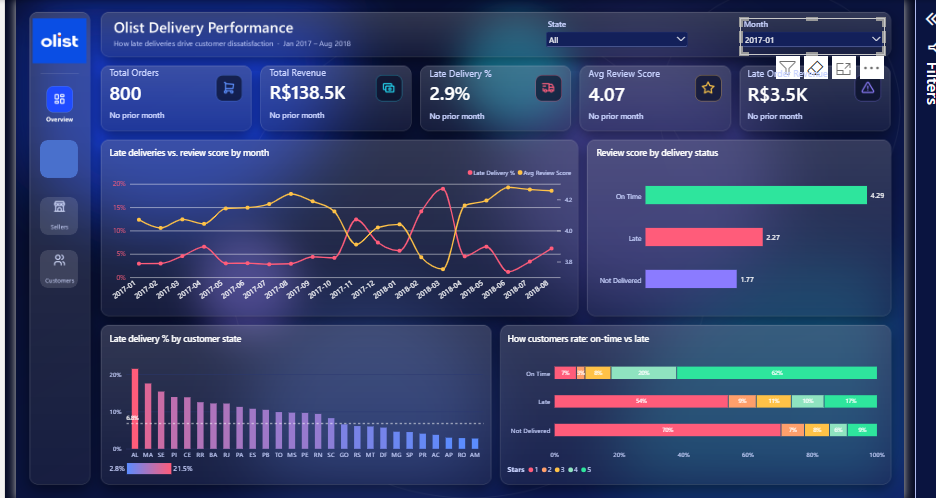

What the dashboard file says about the page in this screenshot:
{"tool":"powerbi","page":{"name":"Overview","canvas":[1920,1080],"ordinal":1},"visuals":[{"type":"cardVisual","fields":{"Data":["_Measures.Total Orders"]},"box":[186.5,147.3,233.7,153.2],"z":0},{"type":"slicer","fields":{"Values":["Calendar.Year-Month"]},"box":[1563.1,39.3,313.8,80.5],"z":1000},{"type":"slicer","fields":{"Values":["Customers.customer_state"]},"box":[1140.5,38.9,315.4,79.9],"z":2000},{"type":"cardVisual","fields":{"Data":["_Measures.Late Order Revenue"]},"box":[1563.8,149,248.4,153.4],"z":3000},{"type":"cardVisual","fields":{"Data":["_Measures.Avg Review Score"]},"box":[1220.4,149,216,153.4],"z":4000},{"type":"cardVisual","fields":{"Data":["_Measures.Late Delivery %"]},"box":[877,149,218.2,153.4],"z":5000},{"type":"cardVisual","fields":{"Data":["_Measures.Total Revenue"]},"box":[532.1,147.3,243.5,153.2],"z":6000},{"type":"lineChart","title":"Late deliveries vs. review score by month","fields":{"Category":["Calendar.Year-Month"],"Y":["_Measures.Late Delivery %"],"Y2":["_Measures.Avg Review Score"]},"box":[186.5,302.4,1034.8,379],"z":7000},{"type":"clusteredBarChart","title":"Review score by delivery status","fields":{"Category":["Orders.Delivery Status"],"Y":["_Measures.Avg Review Score"]},"box":[1237.7,302.4,654.5,378],"z":8000},{"type":"clusteredColumnChart","title":"Late delivery % by customer state","fields":{"Category":["Customers.customer_state"],"Y":["_Measures.Late Delivery %"]},"box":[185.8,704.2,840.2,341.3],"z":9000},{"type":"hundredPercentStackedBarChart","title":"How customers rate: on-time vs late","fields":{"Category":["Orders.Delivery Status"],"Series":["Reviews.review_score"],"Y":["_Measures.Review Count"]},"box":[1044.4,704.7,848.2,341.8],"z":10000},{"type":"actionButton","box":[51.8,540,82.1,82.1],"z":11000},{"type":"actionButton","box":[51.8,425.5,82.1,82.1],"z":12000},{"type":"actionButton","box":[51.8,302.4,82.1,82.1],"z":13000},{"type":"actionButton","box":[51.8,648,82.1,86.4],"z":13001}]}

Visuals, with their boxes on the page's 1920x1080 design canvas (x1, y1, x2, y2). These are canvas units, not pixel positions in the 936x498 screenshot, which may show the page scaled, cropped or inside an application window:
cardVisual - _Measures.Total Orders: <bbox>186, 147, 420, 300</bbox>
slicer - Calendar.Year-Month: <bbox>1563, 39, 1877, 120</bbox>
slicer - Customers.customer_state: <bbox>1140, 39, 1456, 119</bbox>
cardVisual - _Measures.Late Order Revenue: <bbox>1564, 149, 1812, 302</bbox>
cardVisual - _Measures.Avg Review Score: <bbox>1220, 149, 1436, 302</bbox>
cardVisual - _Measures.Late Delivery %: <bbox>877, 149, 1095, 302</bbox>
cardVisual - _Measures.Total Revenue: <bbox>532, 147, 776, 300</bbox>
"Late deliveries vs. review score by month" lineChart: <bbox>186, 302, 1221, 681</bbox>
"Review score by delivery status" clusteredBarChart: <bbox>1238, 302, 1892, 680</bbox>
"Late delivery % by customer state" clusteredColumnChart: <bbox>186, 704, 1026, 1046</bbox>
"How customers rate: on-time vs late" hundredPercentStackedBarChart: <bbox>1044, 705, 1893, 1046</bbox>
actionButton: <bbox>52, 540, 134, 622</bbox>
actionButton: <bbox>52, 426, 134, 508</bbox>
actionButton: <bbox>52, 302, 134, 384</bbox>
actionButton: <bbox>52, 648, 134, 734</bbox>
